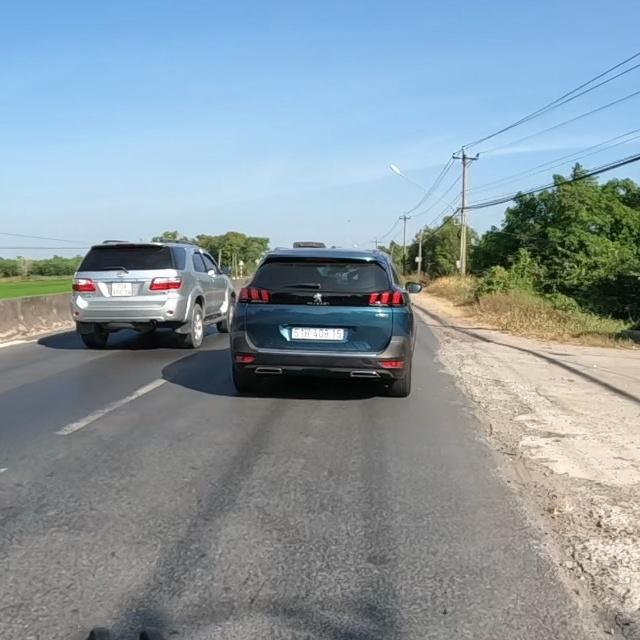license-plate: (291, 326, 344, 341), (110, 282, 134, 295)
